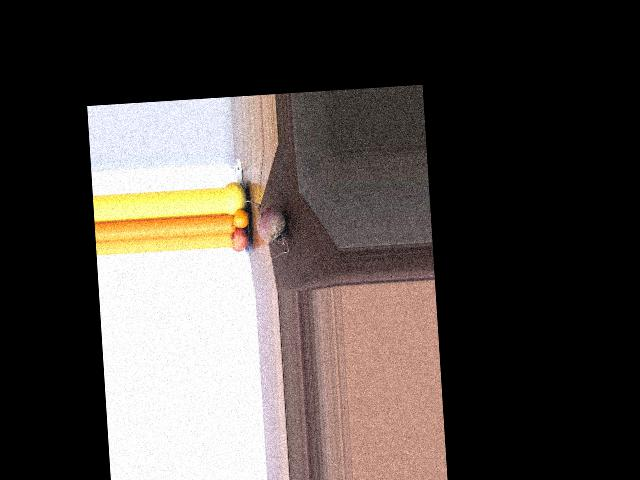beet: (241, 197, 289, 260)
